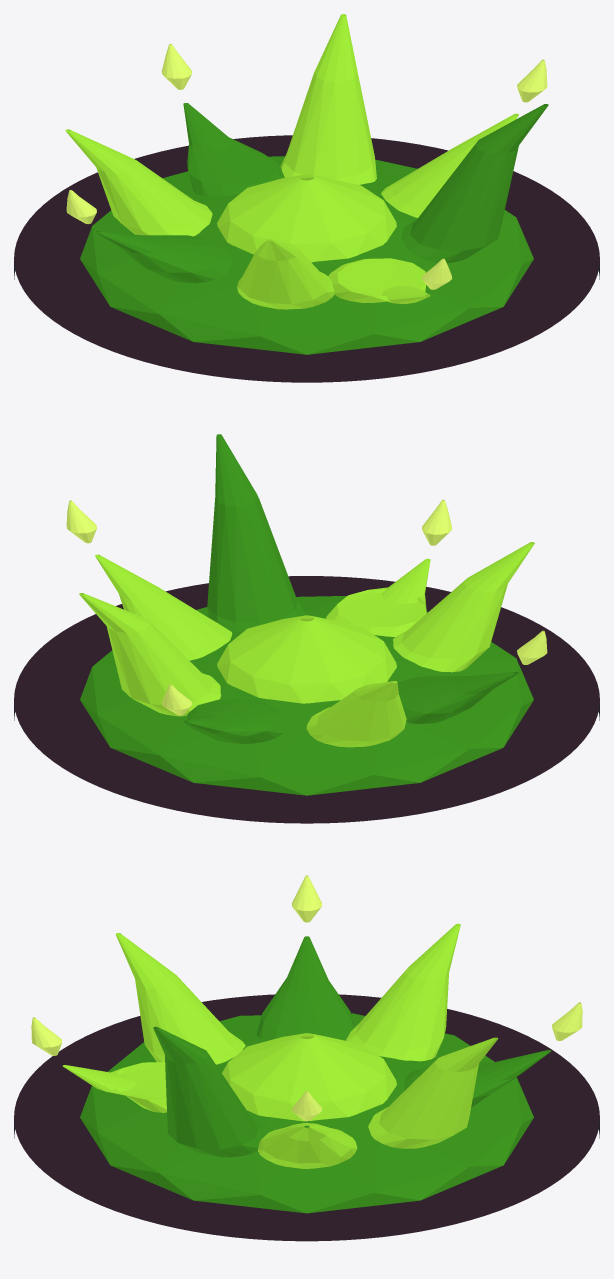
3 views of the same model, one above another, from view 1: azimuth 30°, elevation 25°; view 2: azimuth 150°, elevation 25°; view 3: azimuth 270°, elevation 25° (orthographic).
Size of the model in its own units: 3.2 by 1.16 by 3.2.
16 materials, 16 textured.
